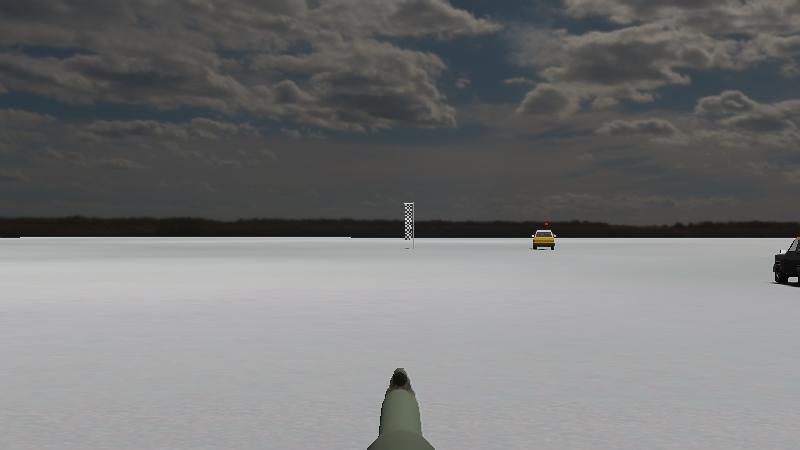car: (770, 234, 800, 291), (531, 228, 556, 253)
